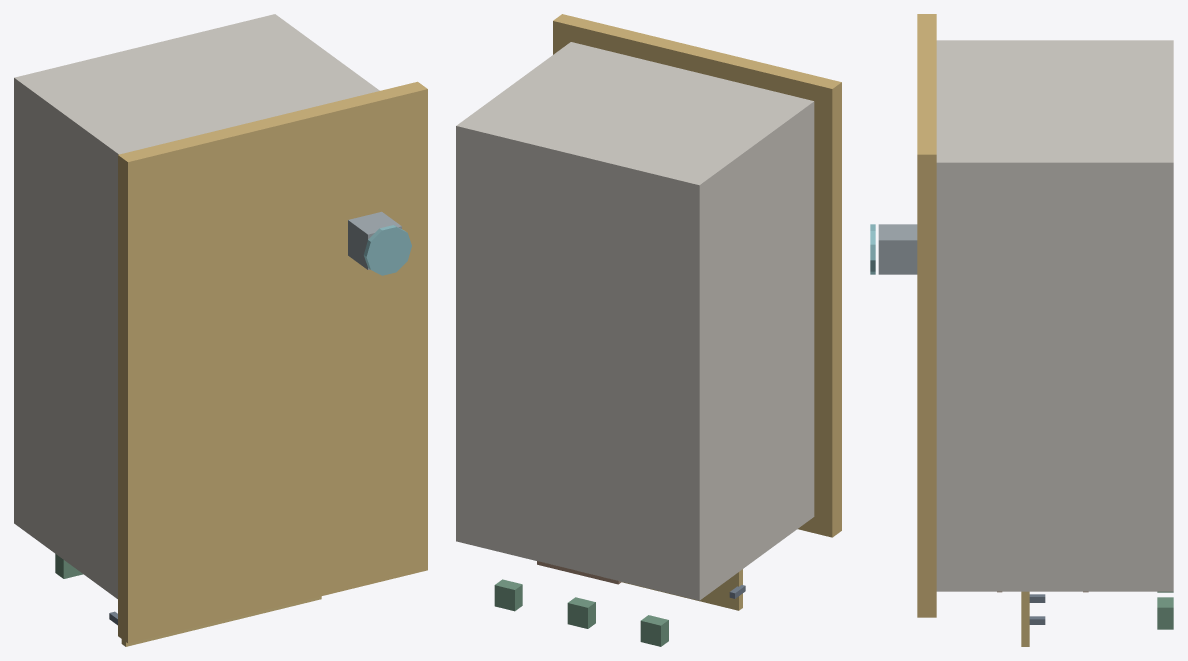
File: warehouse.glb
The picture shows the model from 3 angles, left to right: view 1: azimuth 30°, elevation 25°; view 2: azimuth 150°, elevation 25°; view 3: azimuth 270°, elevation 25°; orthographic projection. The views are drawn at different scales.
Parts seen in each view (by area): view 1: roof3, wall, glass, metal2, sun; view 2: wall, roof3, green, sun; view 3: wall, roof3, metal2, green, sun.
Part boxes in pixels (left/top/right/bottom): roof3: left=118, top=81, right=427, bottom=643; wall: left=14, top=14, right=379, bottom=598; glass: left=364, top=225, right=411, bottom=275; metal2: left=348, top=211, right=401, bottom=269; sun: left=121, top=596, right=321, bottom=646; wall: left=456, top=42, right=814, bottom=600; roof3: left=553, top=14, right=841, bottom=537; green: left=494, top=579, right=668, bottom=646; sun: left=622, top=569, right=742, bottom=610; wall: left=936, top=40, right=1173, bottom=591; roof3: left=917, top=14, right=936, bottom=617; metal2: left=878, top=224, right=917, bottom=274; green: left=1157, top=591, right=1173, bottom=629; sun: left=1021, top=591, right=1029, bottom=646.
Bounding box in the file's own units: 6.18 × 10.58 × 5.63.
